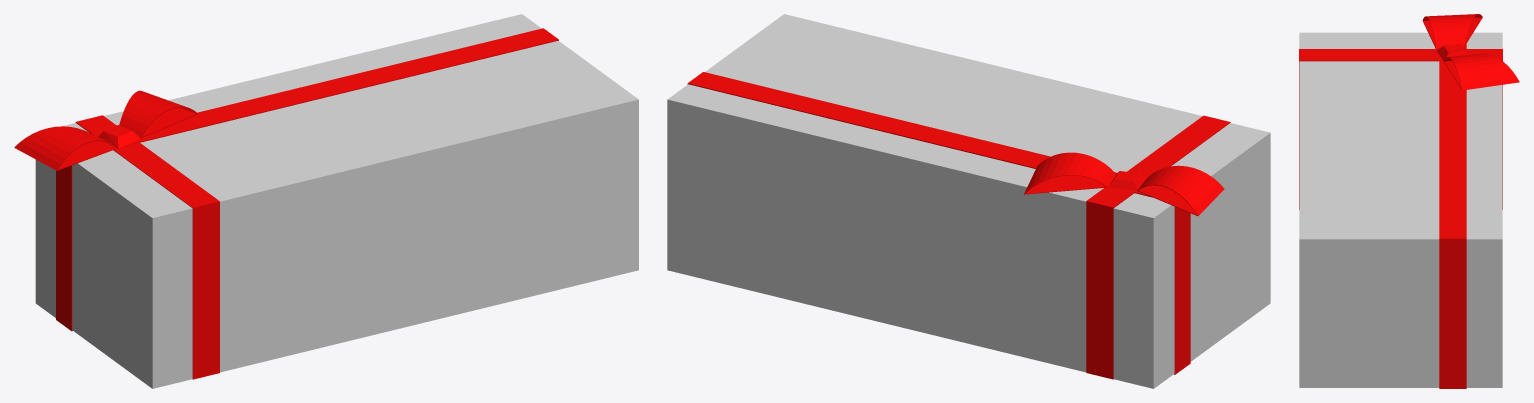
Rendered from Prop_Christmas_Present_White_03.FBX.
The picture shows the model from 3 angles, left to right: view 1: azimuth 30°, elevation 25°; view 2: azimuth 150°, elevation 25°; view 3: azimuth 270°, elevation 25°; orthographic projection. The views are drawn at different scales.
Parts seen in each view (by area): view 1: Prop_Christmas_Present_White_03; view 2: Prop_Christmas_Present_White_03; view 3: Prop_Christmas_Present_White_03.
Part boxes in pixels (<box>): Prop_Christmas_Present_White_03: <box>14,14,638,388</box>; Prop_Christmas_Present_White_03: <box>667,14,1270,388</box>; Prop_Christmas_Present_White_03: <box>1299,14,1519,388</box>.
Size of the model in its own units: 852 by 298 by 360.
